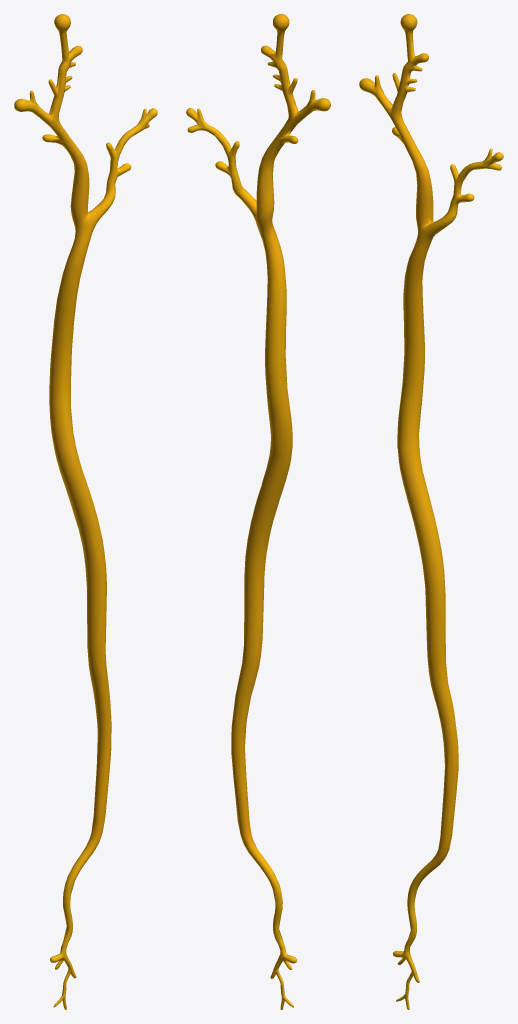
The model's file is ulnar-nerve.glb.
The picture shows the model from 3 angles, left to right: view 1: azimuth 30°, elevation 25°; view 2: azimuth 150°, elevation 25°; view 3: azimuth 330°, elevation 25°; orthographic projection.
Parts seen in each view (by area): view 1: ulnar-nerve; view 2: ulnar-nerve; view 3: ulnar-nerve.
Boxes of the visible parts, <box> form: ulnar-nerve: <box>14,14,157,1009</box>; ulnar-nerve: <box>186,14,330,1009</box>; ulnar-nerve: <box>359,14,503,1009</box>.
Size of the model in its own units: 0.1503 by 1 by 0.0325.
1 material, 1 textured.
